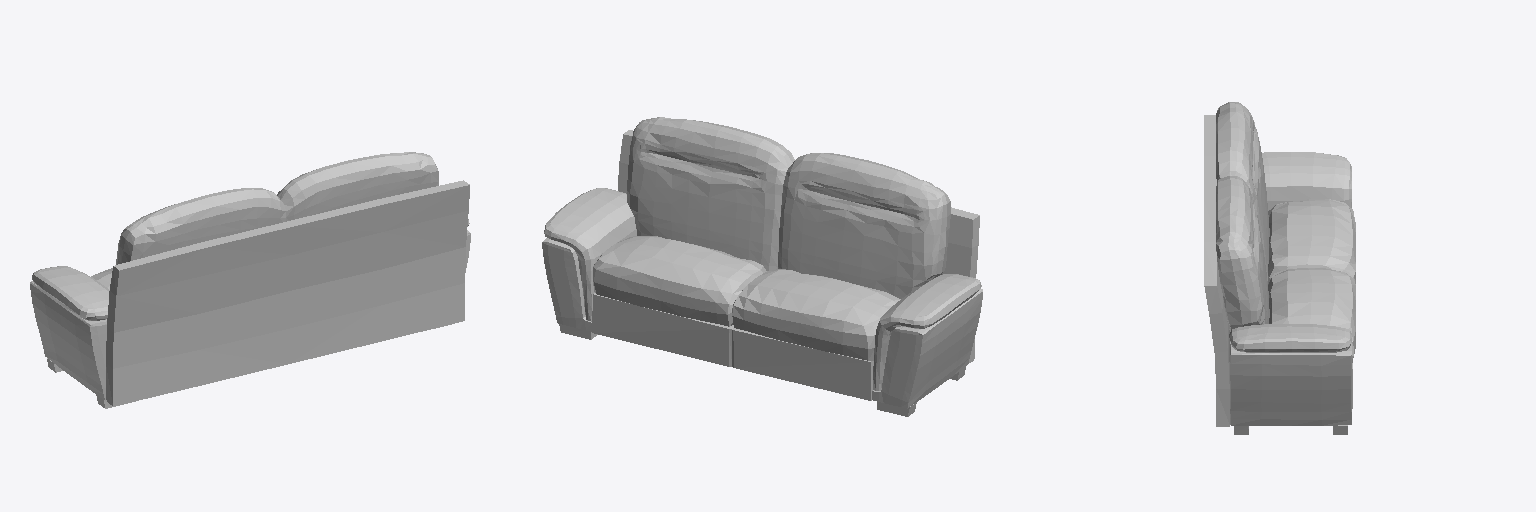
The model's file is sofa_lowpoly.obj.
The picture shows the model from 3 angles: view 1: azimuth 30°, elevation 25°; view 2: azimuth 150°, elevation 25°; view 3: azimuth 270°, elevation 25°; orthographic projection.
Parts seen in each view (by area): view 1: sofa_seat.001; view 2: sofa_seat.001; view 3: sofa_seat.001.
Part boxes in pixels (x1,y1,x2,y2): sofa_seat.001: (30, 152, 470, 408); sofa_seat.001: (542, 117, 982, 416); sofa_seat.001: (1204, 102, 1355, 434).
Size of the model in its own units: 2.38 by 1.09 by 0.8023.